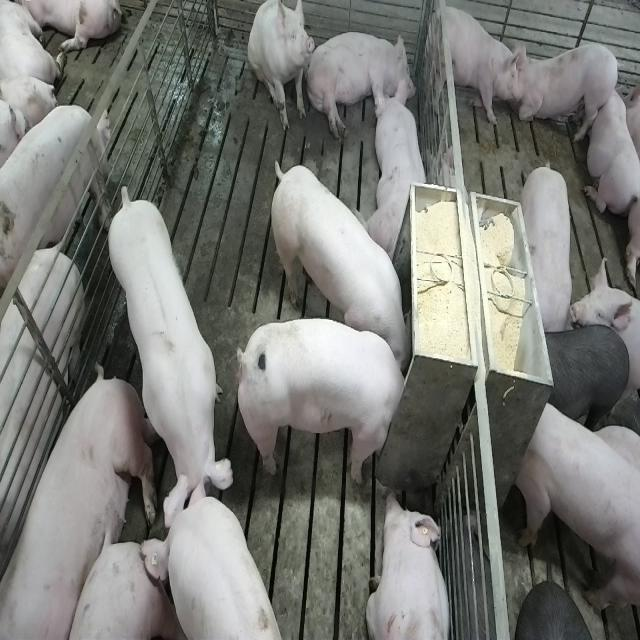Feeding: (234, 312, 410, 482), (269, 162, 420, 360)
Lateral_lying: (304, 27, 418, 144)
Sitting: (247, 0, 315, 134)
Standing: (108, 182, 234, 527), (512, 397, 640, 616), (1, 104, 115, 320), (134, 484, 284, 640), (517, 326, 630, 433), (520, 155, 574, 345), (570, 255, 640, 400)
Sternal_lying: (0, 245, 86, 554), (368, 486, 451, 640), (362, 75, 428, 255), (508, 37, 619, 142), (430, 4, 521, 126), (587, 86, 639, 222)
